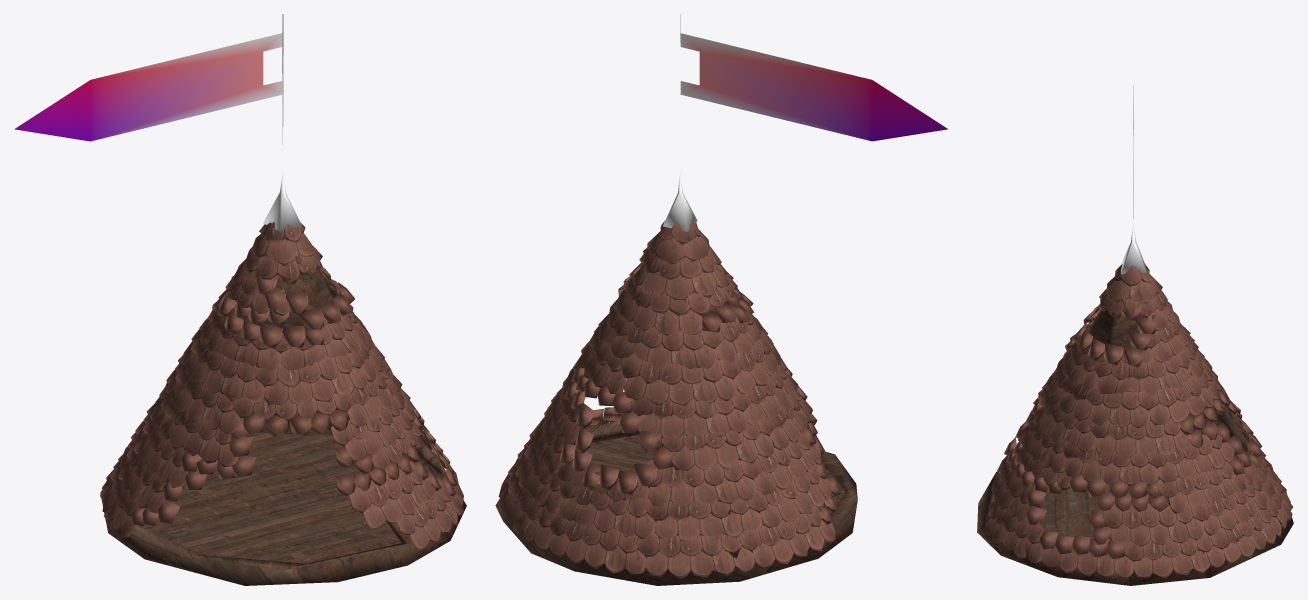
File: conus_roof_LOD4.fbx
3 views of the same model, side by side, from view 1: azimuth 30°, elevation 25°; view 2: azimuth 150°, elevation 25°; view 3: azimuth 270°, elevation 25° (orthographic). The views are drawn at different scales.
Visible parts, largest first — view 1: Fabric_flag.009; view 2: Fabric_flag.009; view 3: Fabric_flag.009.
Boxes of the visible parts, x1,y1,x2,y2 form: Fabric_flag.009: (14, 14, 466, 585); Fabric_flag.009: (495, 14, 947, 585); Fabric_flag.009: (977, 85, 1293, 585).
Size of what is drawn, in the model's own units: 290 by 319 by 212.
